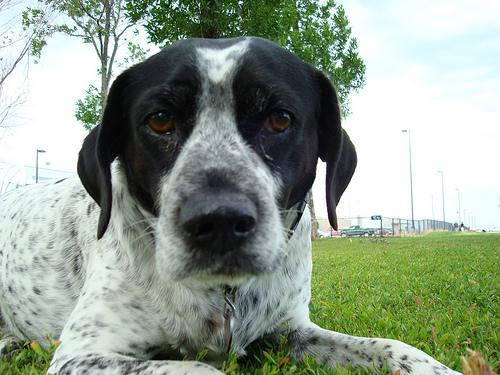dog-german_shorthaired: (76, 34, 356, 283)
